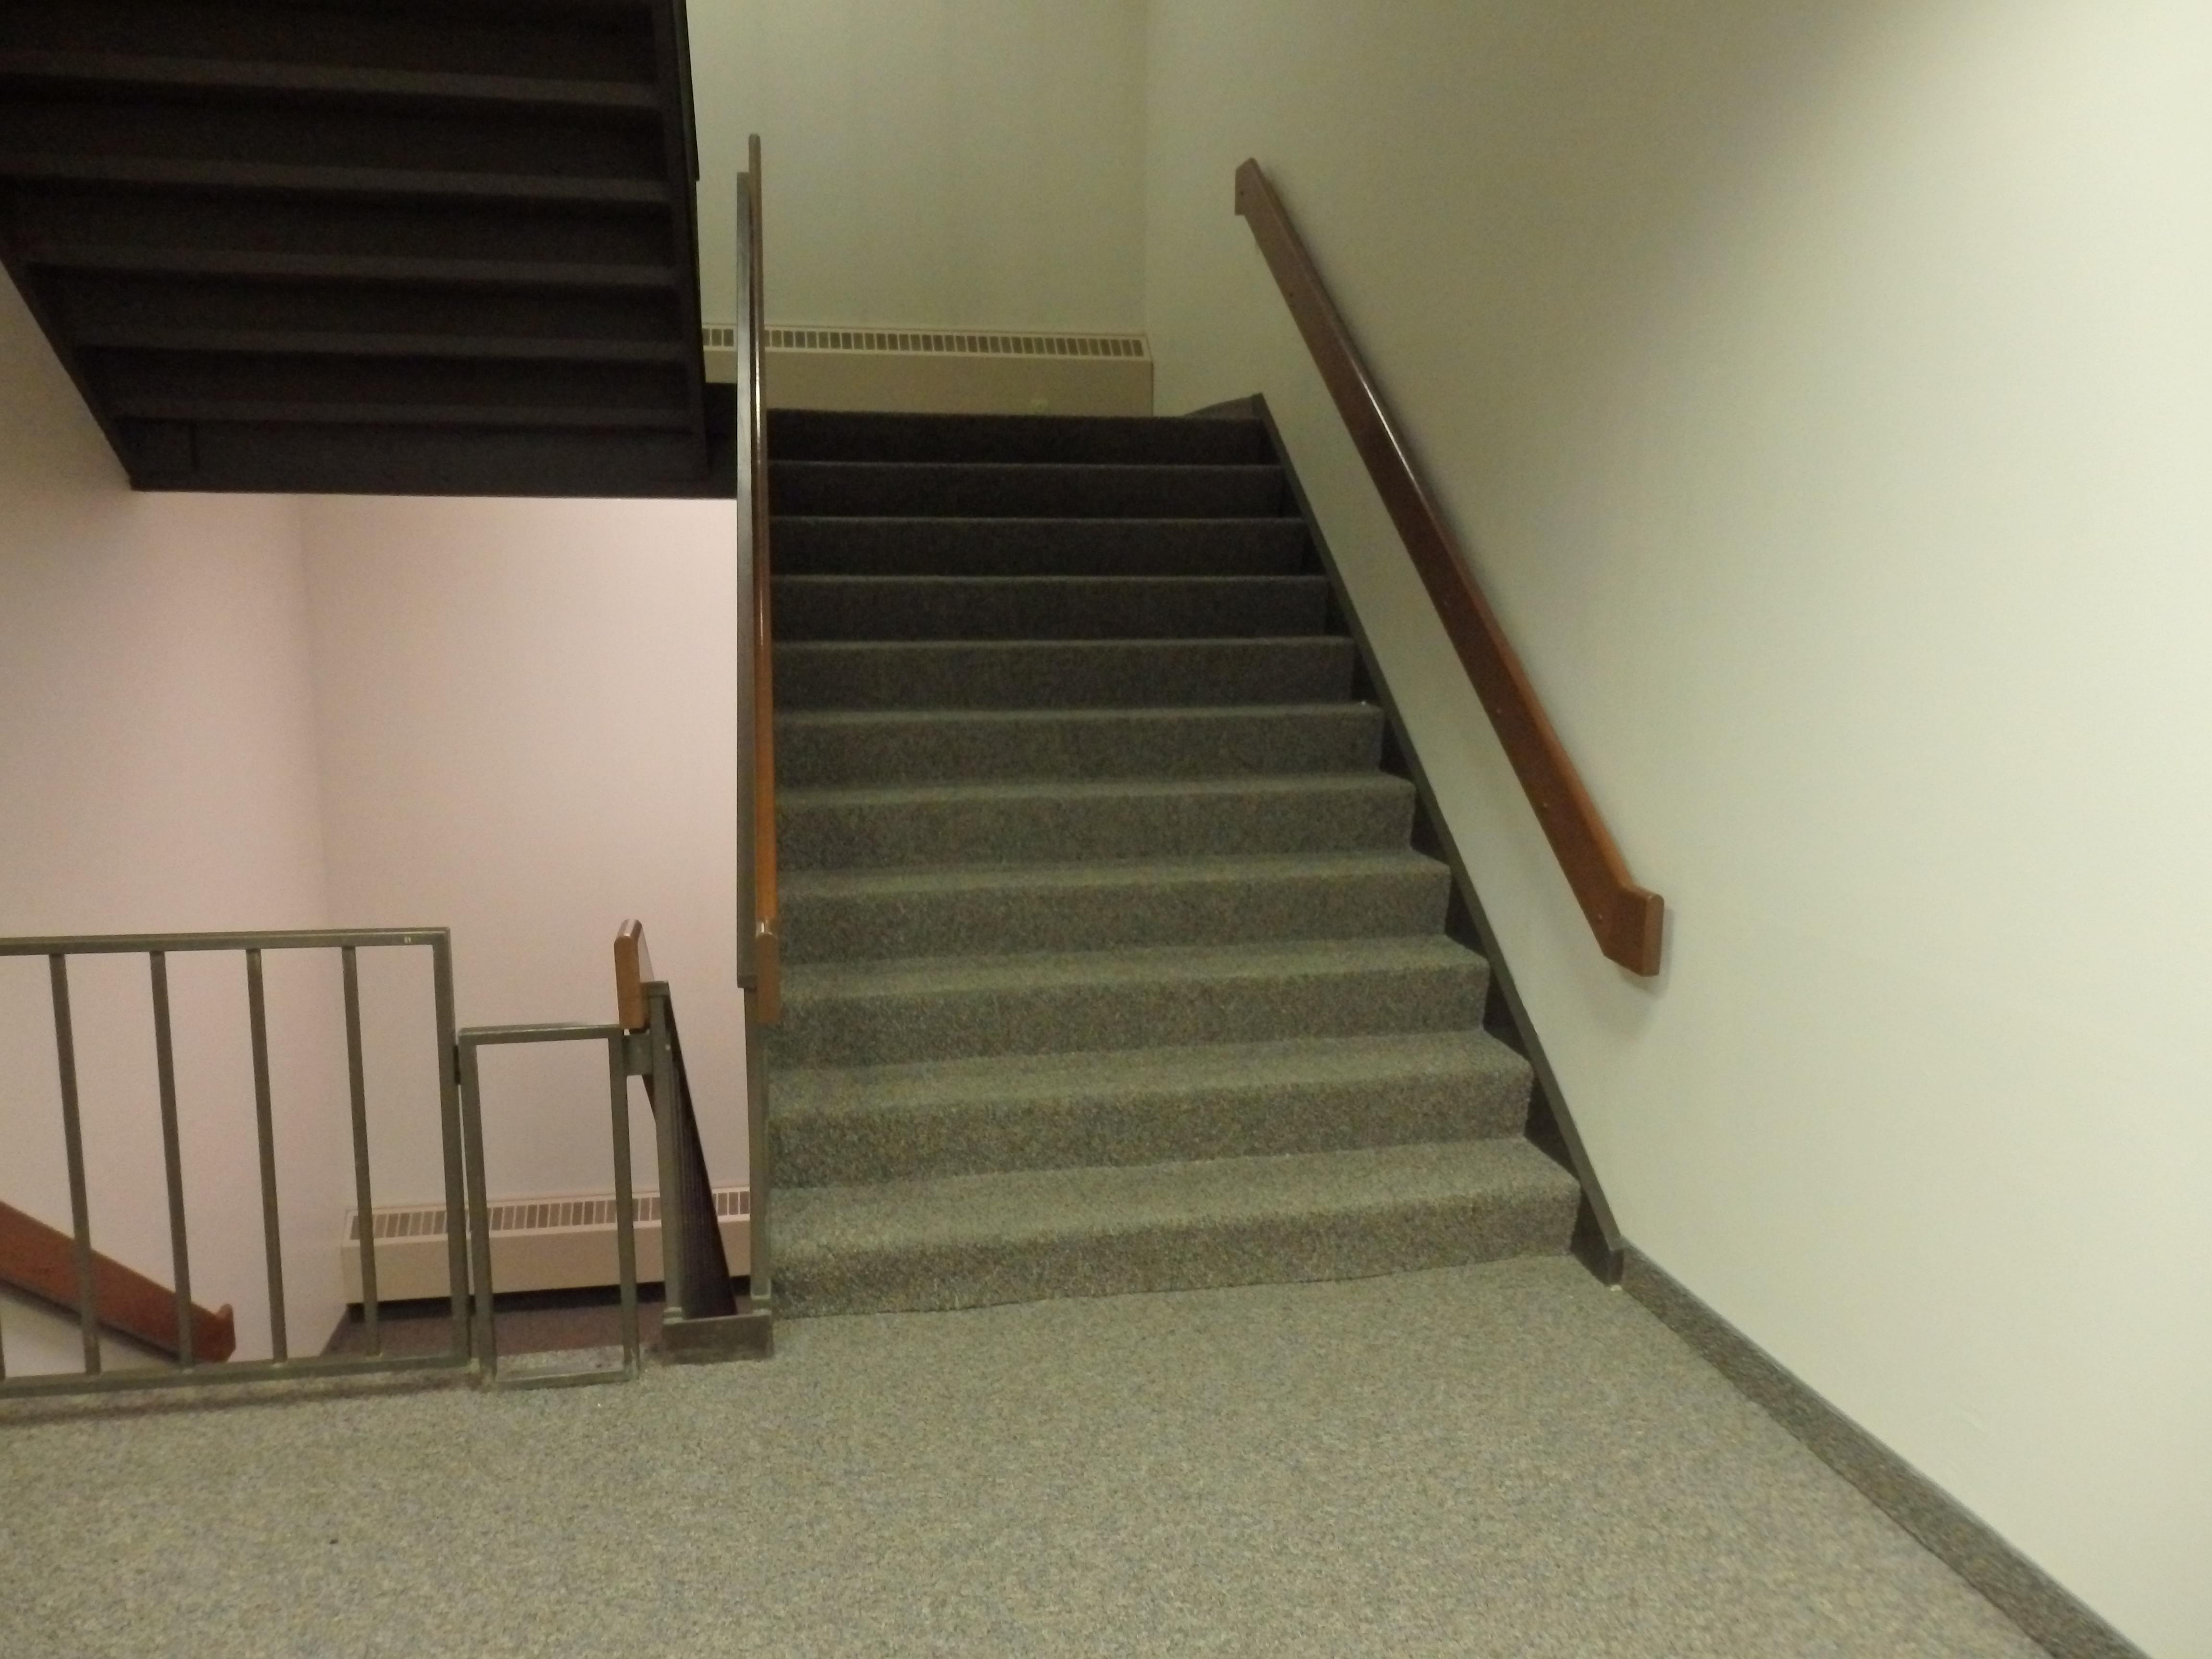stairs_up: (756, 394, 1581, 1309)
